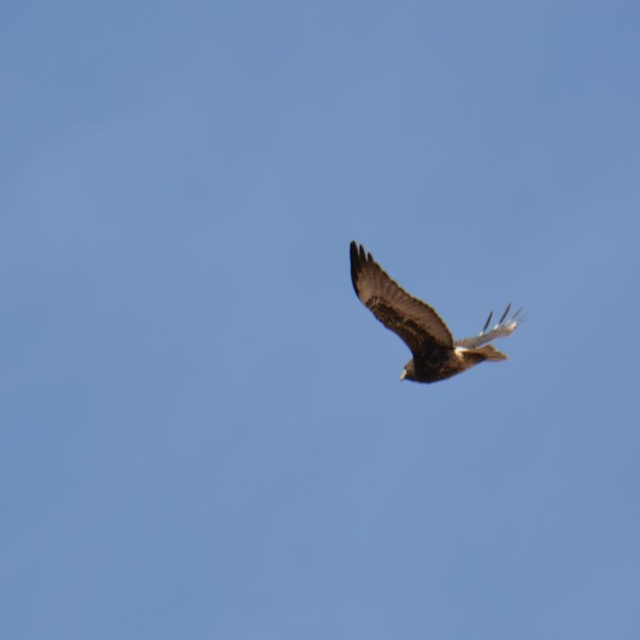Eagle: (347, 237, 526, 386)
